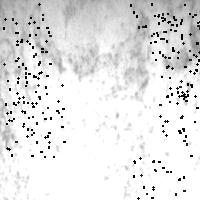pitted_surface: (1, 13, 198, 190), (6, 98, 63, 156), (6, 75, 61, 132), (0, 3, 49, 63), (152, 13, 200, 70), (130, 155, 190, 200), (159, 83, 200, 143), (130, 0, 187, 42), (5, 66, 50, 118), (161, 42, 200, 97)
